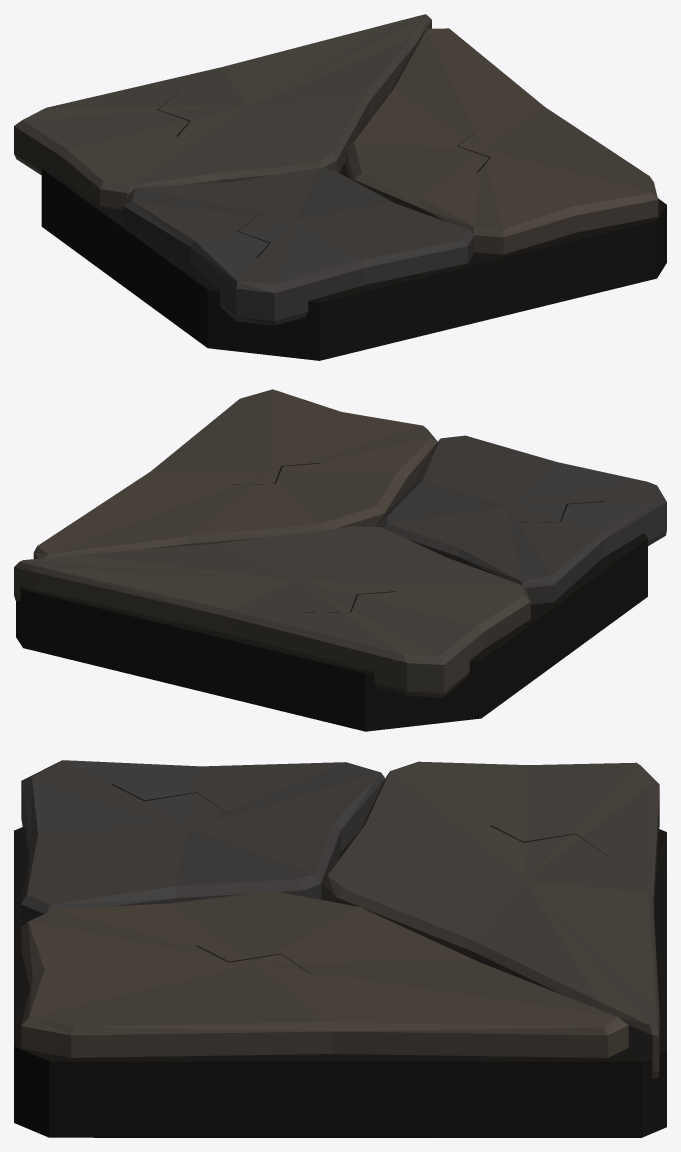
Rendered from Floor_Stone_B.fbx.
The picture shows the model from 3 angles, top to bottom: view 1: azimuth 30°, elevation 25°; view 2: azimuth 150°, elevation 25°; view 3: azimuth 270°, elevation 25°; orthographic projection. The views are drawn at different scales.
Visible parts, largest first — view 1: Floor_Stone_B; view 2: Floor_Stone_B; view 3: Floor_Stone_B.
Part boxes in pixels (left/top/right/bottom): Floor_Stone_B: left=14, top=14, right=666, bottom=360; Floor_Stone_B: left=14, top=389, right=666, bottom=731; Floor_Stone_B: left=14, top=760, right=666, bottom=1137.
Size of the model in its own units: 1 by 0.1804 by 1.
Materials: 1 (1 with a texture image).
